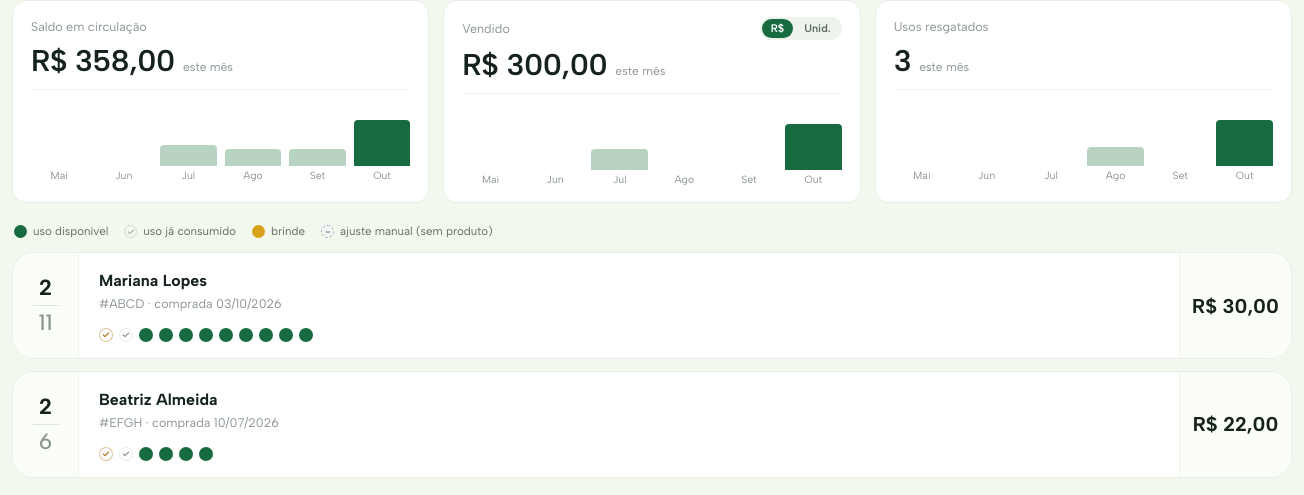
Test: CartelasClient stat cards › switches the Vendido card between R$ and Unid.
The image size is (1304, 495).
Expected: the element named "Vendido por mês (R$)" is shown, [462,108,842,186]
Click the button "Unid.": click(817, 28) [795,19,840,38]
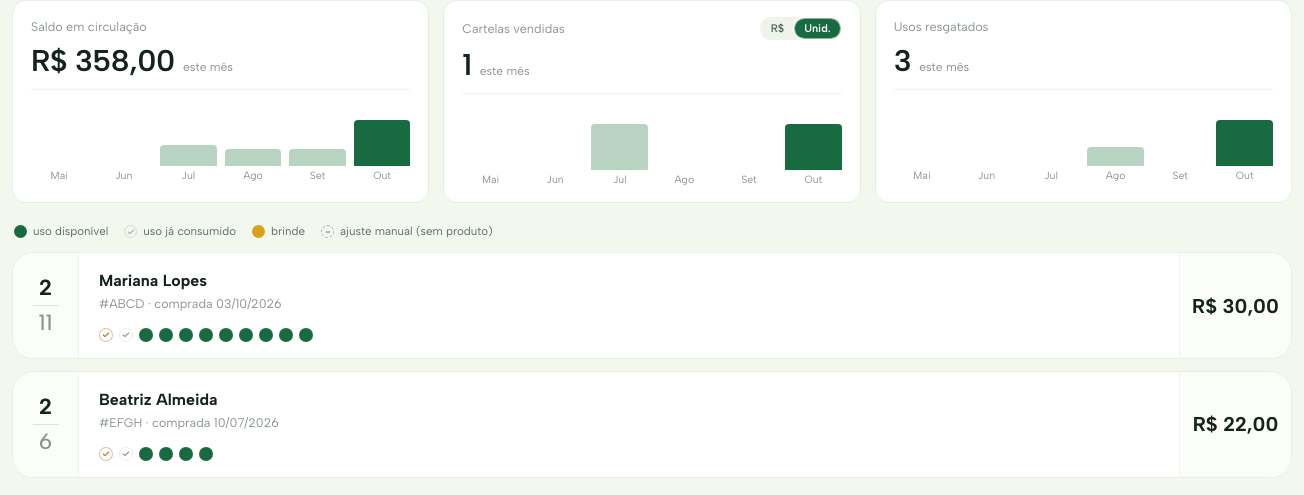
Expected: the text "Vendido" is gone
Click the button "R$": click(777, 28) [762,19,793,38]
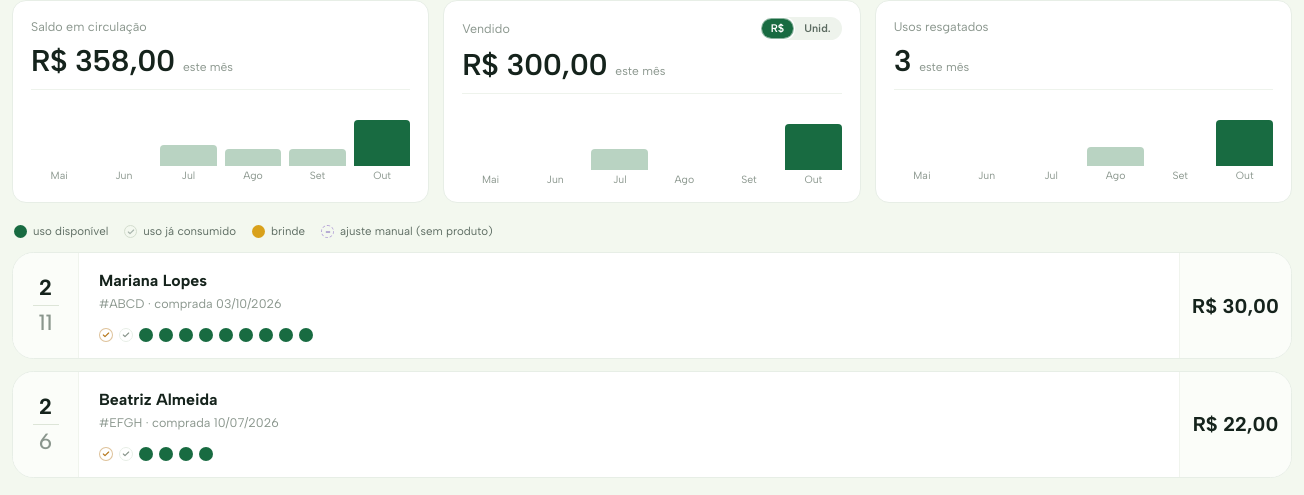
Expected: the text "Vendido" is shown, [462,21,510,36]
